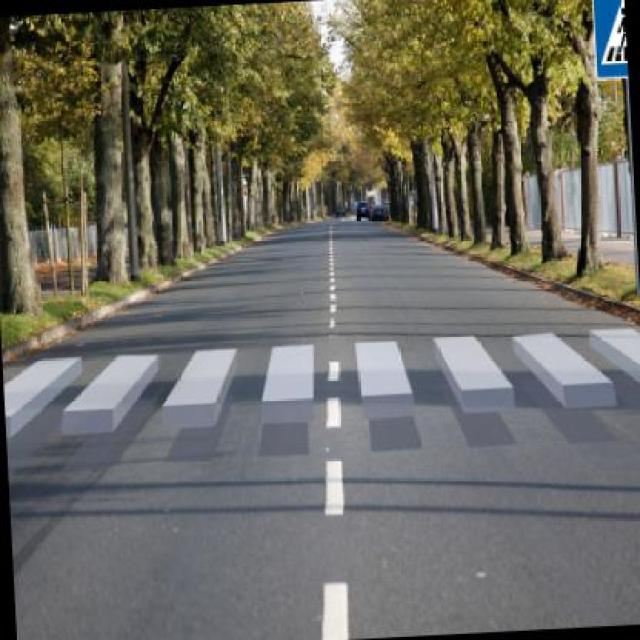yaya: (593, 0, 628, 75)
